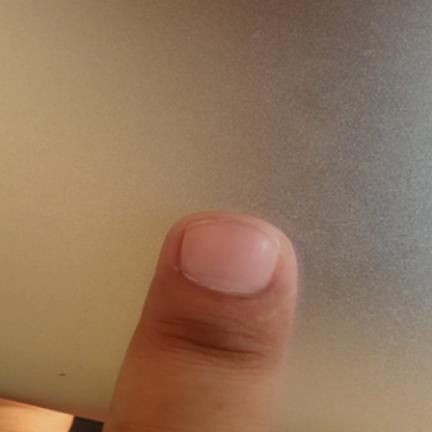Nail: (179, 219, 279, 293)
